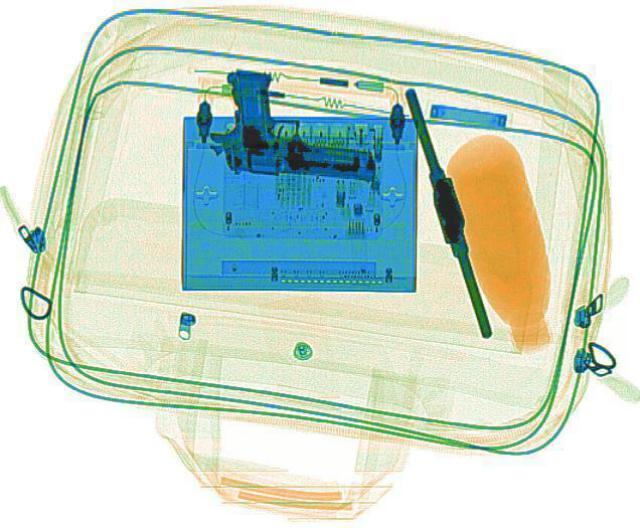Gun: (202, 66, 384, 183)
